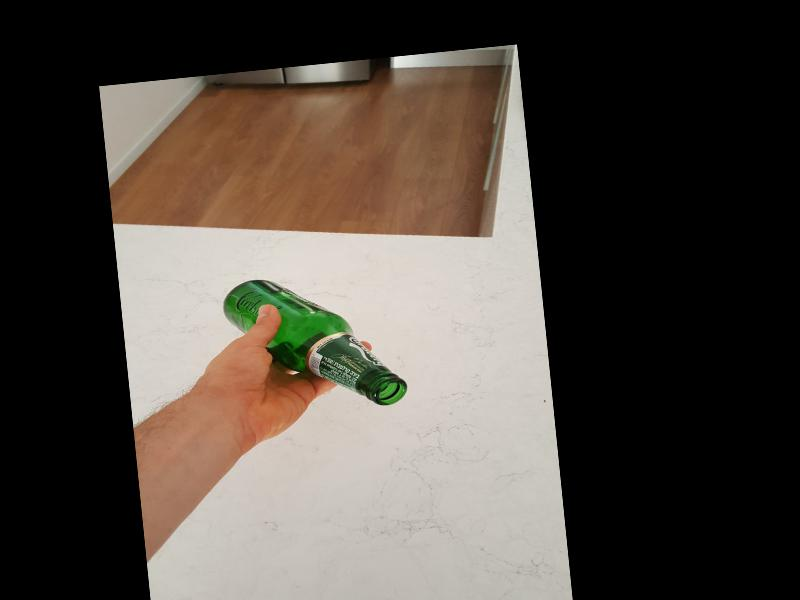Beer: (222, 266, 410, 422)
